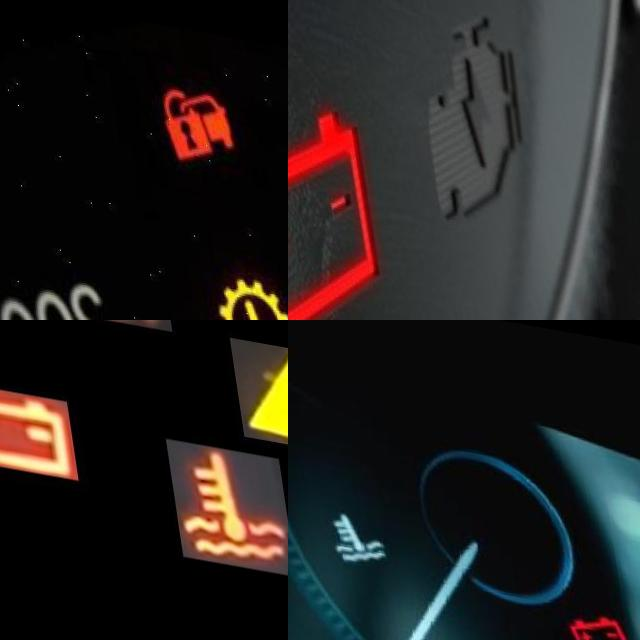Central Warning lamp: (221, 325, 288, 440)
Engine cooling system: (154, 429, 281, 563)
High Engine Coolant Temperature: (312, 506, 382, 575)
